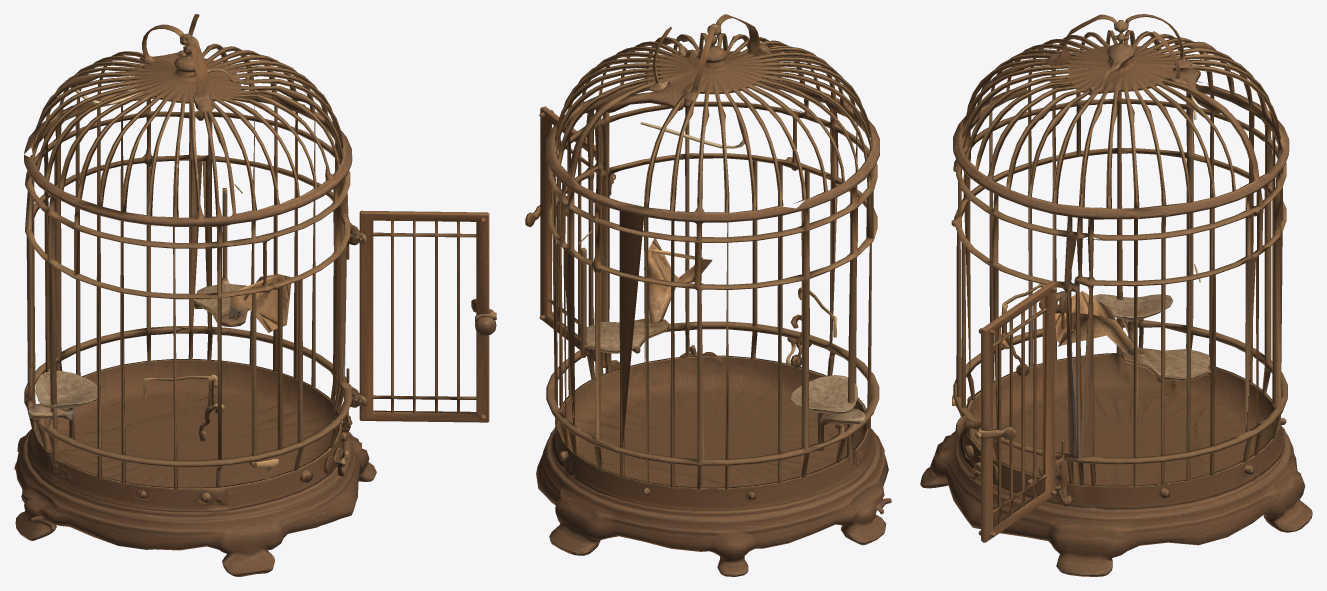
The model's file is birdcage.glb.
The picture shows the model from 3 angles, left to right: view 1: azimuth 30°, elevation 25°; view 2: azimuth 150°, elevation 25°; view 3: azimuth 270°, elevation 25°; orthographic projection. The views are drawn at different scales.
Visible parts, largest first — view 1: b620001f_3391_429e_ab47_08b5346e38eb; view 2: b620001f_3391_429e_ab47_08b5346e38eb; view 3: b620001f_3391_429e_ab47_08b5346e38eb.
Boxes of the visible parts, bbox=[...] form: b620001f_3391_429e_ab47_08b5346e38eb: bbox=[14, 14, 496, 576]; b620001f_3391_429e_ab47_08b5346e38eb: bbox=[525, 14, 891, 576]; b620001f_3391_429e_ab47_08b5346e38eb: bbox=[920, 14, 1312, 576].
Bounding box in the file's own units: 0.9097 × 0.9995 × 0.7466.
Materials: 1 (1 with a texture image).
